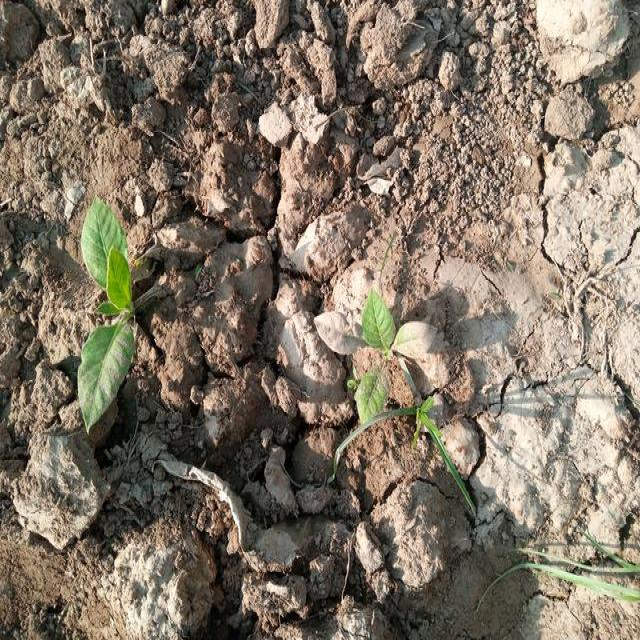crop: (302, 292, 440, 418), (82, 193, 145, 420)
